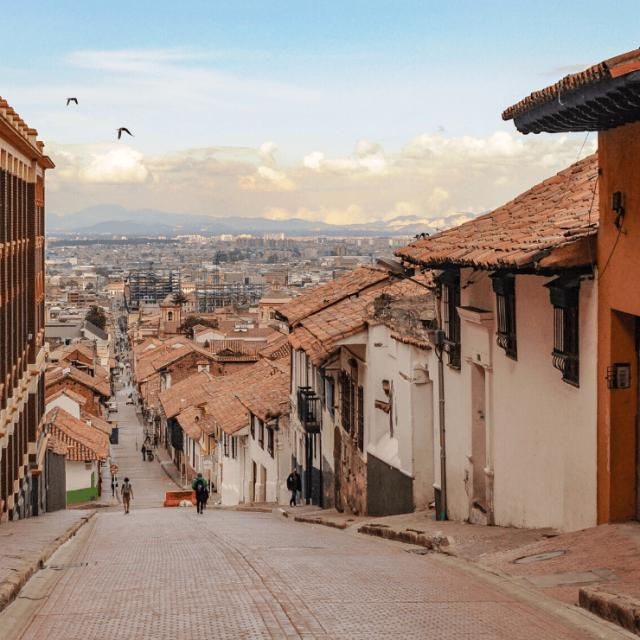Fachada: (401, 155, 598, 530), (503, 48, 640, 523), (366, 292, 437, 515), (288, 327, 340, 508), (232, 361, 291, 503), (322, 345, 367, 515), (48, 409, 108, 504), (210, 382, 248, 505), (174, 406, 215, 481), (46, 391, 110, 432)
